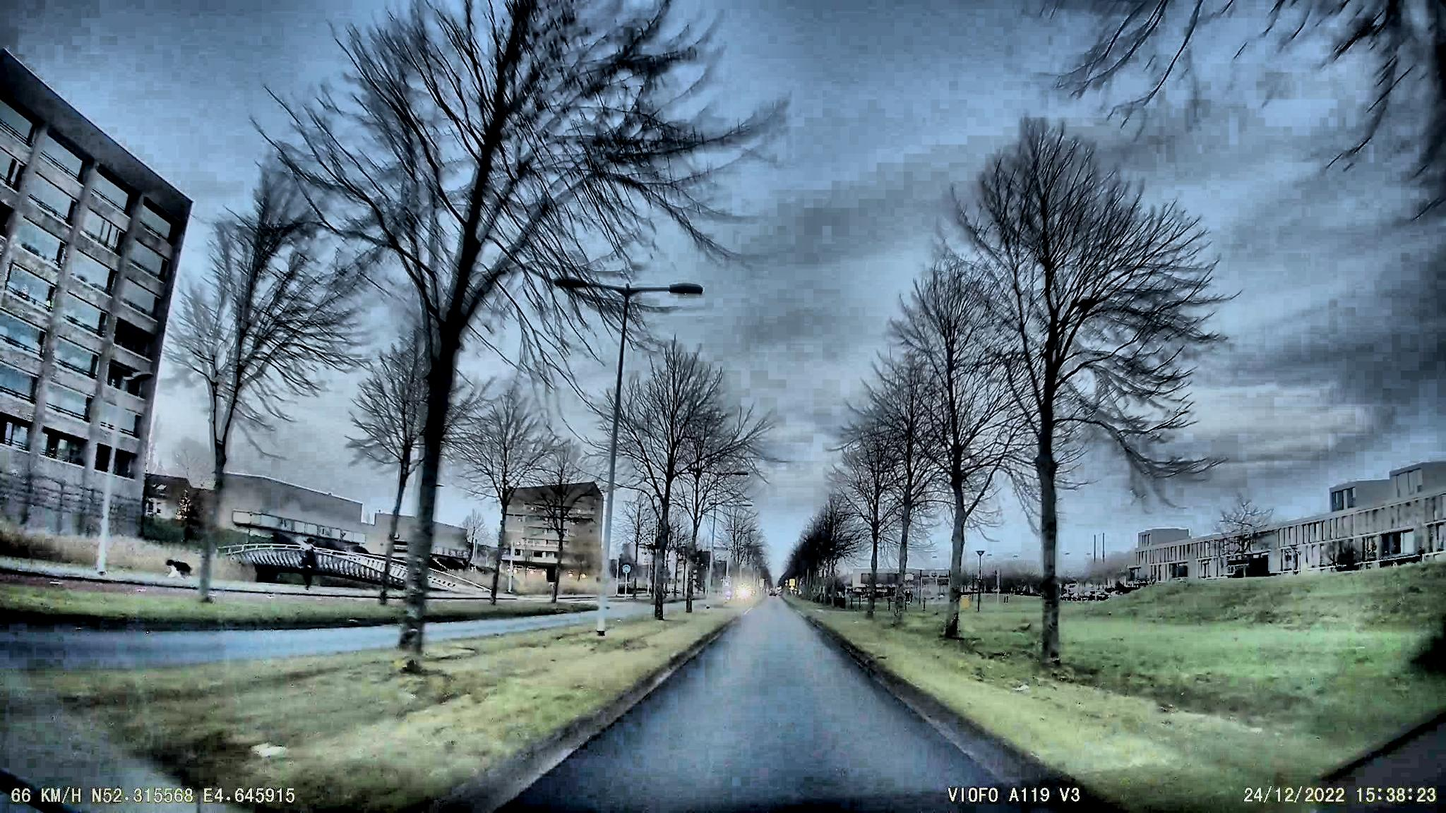Roads: (508, 603, 1072, 813)
